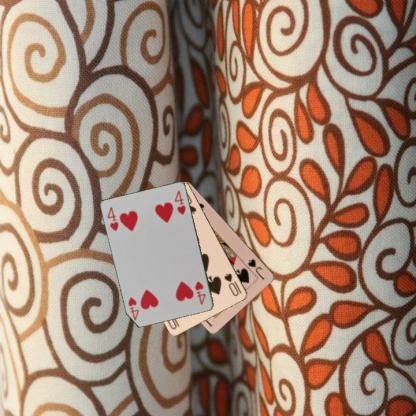10s: (222, 270, 243, 298)
4h: (192, 279, 207, 306), (105, 205, 120, 232)
Js: (245, 256, 266, 281)
